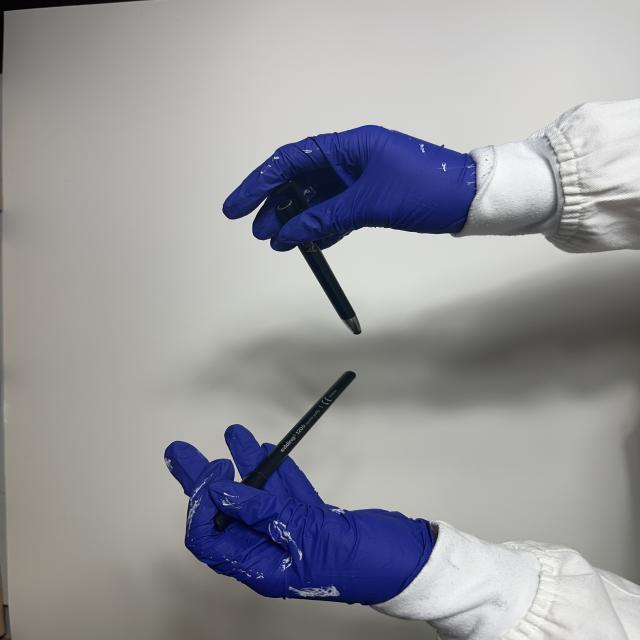gloves_contaminated: (165, 425, 435, 605), (223, 126, 476, 251)
